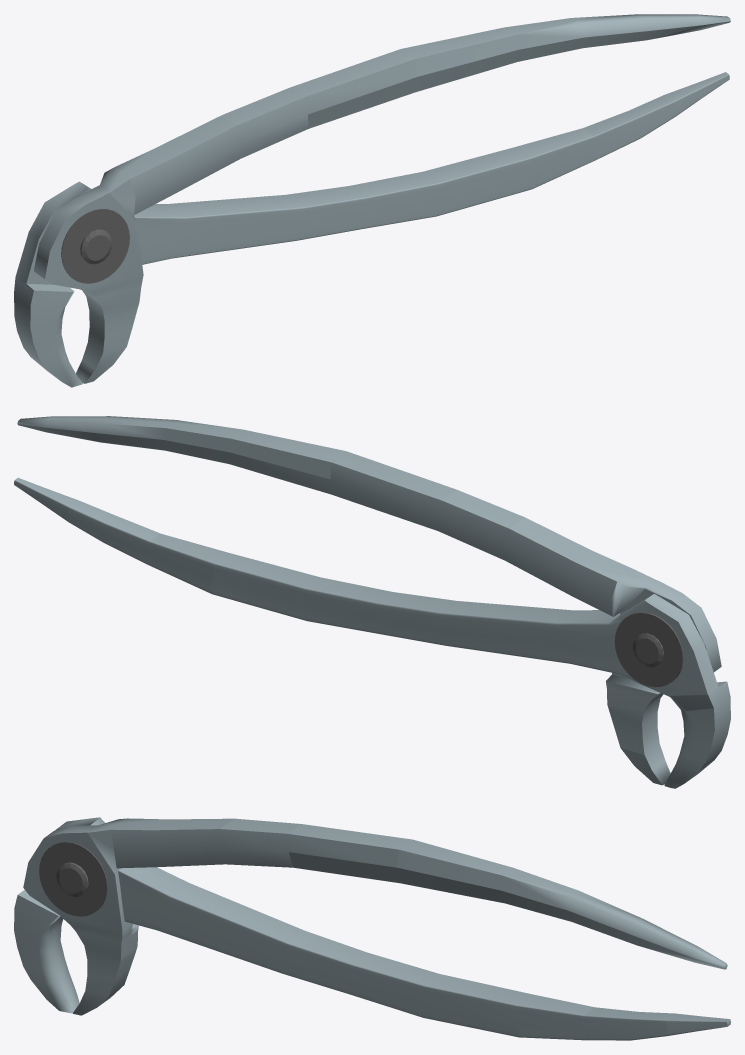
The model's file is TangForcep.fbx.
3 views of the same model, one above another, from view 1: azimuth 30°, elevation 25°; view 2: azimuth 150°, elevation 25°; view 3: azimuth 330°, elevation 25° (orthographic).
Visible parts, largest first — view 1: TangGigi; view 2: TangGigi; view 3: TangGigi.
Part boxes in pixels (bbox=[...]): TangGigi: bbox=[14, 14, 730, 387]; TangGigi: bbox=[14, 416, 730, 788]; TangGigi: bbox=[14, 817, 730, 1040].
Bounding box in the file's own units: 15.94 × 5.32 × 1.05.
